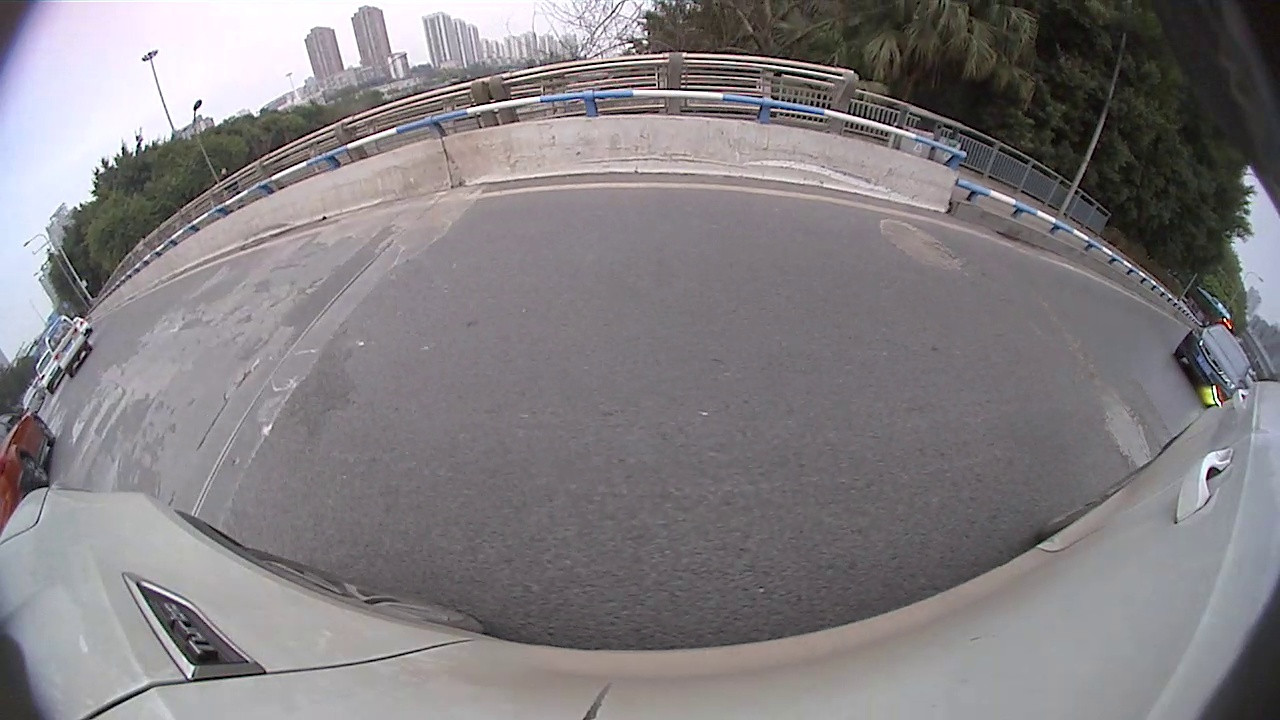car: (1173, 322, 1258, 408), (1, 409, 56, 539), (43, 313, 94, 379), (34, 347, 65, 393)
front: (34, 418, 58, 447), (1170, 336, 1189, 361)
rear: (15, 450, 55, 485)
